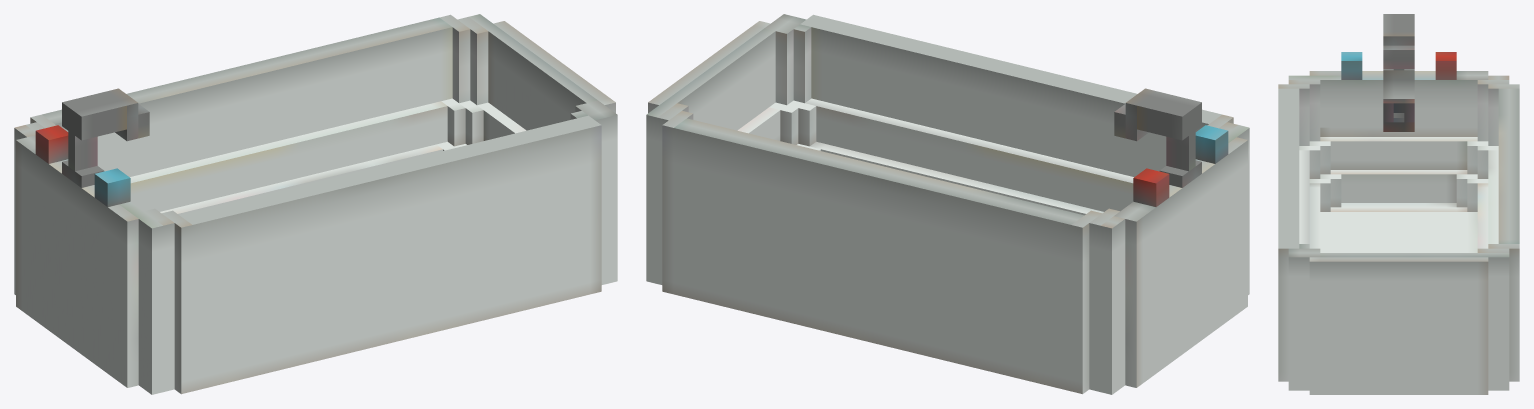
The model's file is Bathtub_00.fbx.
The picture shows the model from 3 angles, left to right: view 1: azimuth 30°, elevation 25°; view 2: azimuth 150°, elevation 25°; view 3: azimuth 270°, elevation 25°; orthographic projection. The views are drawn at different scales.
Visible parts, largest first — view 1: Bathtub_00; view 2: Bathtub_00; view 3: Bathtub_00.
Boxes of the visible parts, x1,y1,x2,y2 form: Bathtub_00: (14, 14, 617, 394); Bathtub_00: (646, 14, 1249, 394); Bathtub_00: (1278, 14, 1519, 394).
Bounding box in the file's own units: 215 × 115 × 100.
Materials: 1 (1 with a texture image).
